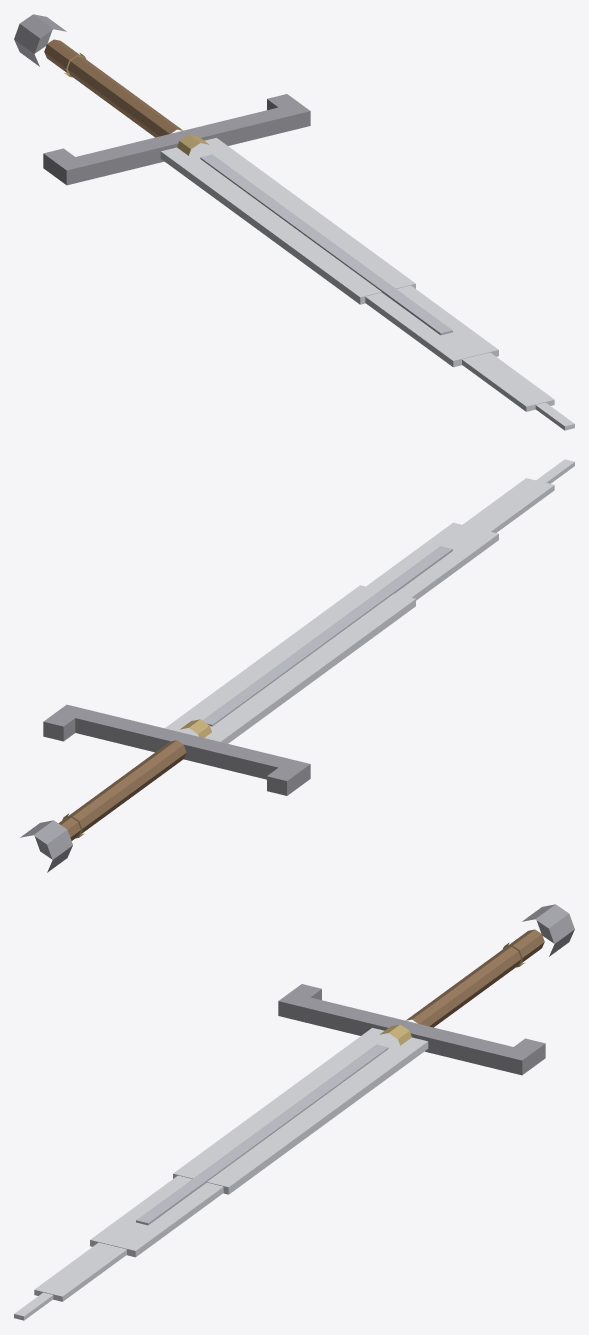
Rendered from greatsword.glb.
3 views of the same model, one above another, from view 1: azimuth 30°, elevation 25°; view 2: azimuth 150°, elevation 25°; view 3: azimuth 330°, elevation 25° (orthographic).
Parts seen in each view (by area): view 1: prop; view 2: prop; view 3: prop.
Boxes of the visible parts, box(x1,y1,x2,y2) form: prop: box(14, 14, 574, 430); prop: box(20, 459, 574, 872); prop: box(14, 904, 574, 1320).
Size of the model in its own units: 0.48 by 0.076 by 1.83.
